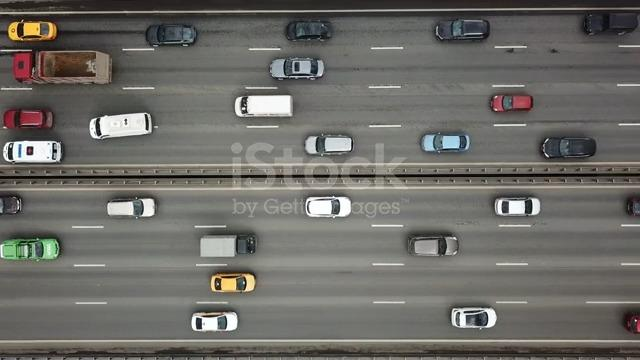Cars: (89, 112, 154, 140), (3, 140, 63, 164), (234, 94, 294, 118), (1, 237, 60, 261), (269, 57, 325, 81), (435, 18, 491, 42), (146, 23, 198, 48), (541, 137, 597, 159), (305, 133, 354, 157), (8, 19, 58, 42), (3, 108, 54, 130), (305, 196, 352, 219), (107, 197, 156, 219), (286, 20, 333, 42), (421, 133, 470, 154), (191, 311, 239, 332), (211, 272, 256, 293), (494, 197, 541, 217), (490, 94, 533, 113), (1, 195, 23, 216)
